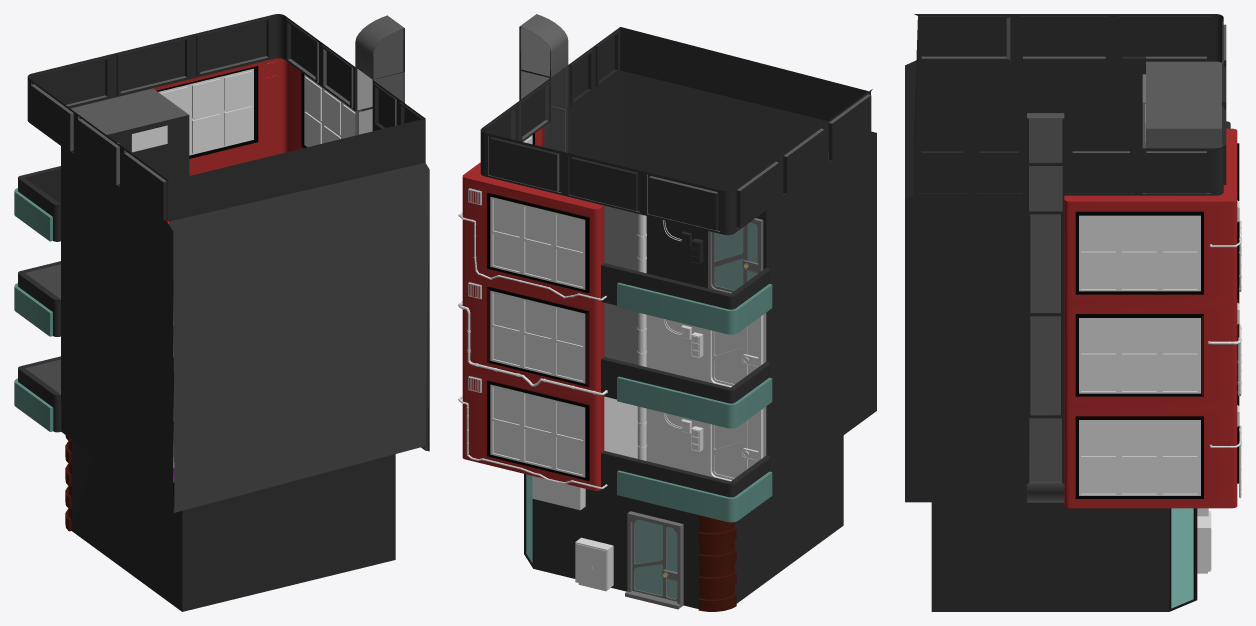
Rendered from Jonas_APT_NEW.fbx.
The picture shows the model from 3 angles, left to right: view 1: azimuth 30°, elevation 25°; view 2: azimuth 150°, elevation 25°; view 3: azimuth 270°, elevation 25°; orthographic projection. The views are drawn at different scales.
Visible parts, largest first — view 1: Body, Window_F, Door Frame, Window_F.003, Electric_Thingy; view 2: Body, Window_F, Window_F.002, Window_F.001, Door Frame.002, Body.002, Door Frame, Door Frame.001, Door, Door.001, Door.002, Box (+3 smaller); view 3: Body, Window_F.003, Window_F.004, Window_F.005, Box.
Part boxes in pixels (x1,y1,x2,y2): Body: (14, 14, 429, 611); Window_F: (158, 68, 253, 155); Door Frame: (107, 115, 189, 180); Window_F.003: (304, 74, 355, 147); Electric_Thingy: (131, 125, 167, 152); Body: (462, 14, 876, 611); Window_F: (490, 196, 585, 289); Window_F.002: (490, 384, 585, 477); Window_F.001: (490, 290, 585, 383); Door Frame.002: (604, 396, 766, 475); Body.002: (625, 511, 683, 609); Door Frame: (646, 210, 766, 288); Door Frame.001: (646, 313, 766, 381); Door: (708, 218, 763, 293); Door.001: (708, 315, 763, 387); Door.002: (708, 409, 763, 481); Box: (575, 537, 613, 591); Body: (905, 14, 1239, 611); Window_F.003: (1079, 215, 1200, 291); Window_F.004: (1079, 318, 1200, 393); Window_F.005: (1079, 420, 1200, 495); Box: (1197, 511, 1211, 573).
Size of the model in its own units: 1658 by 1517 by 2594.
6 materials, 6 textured.
